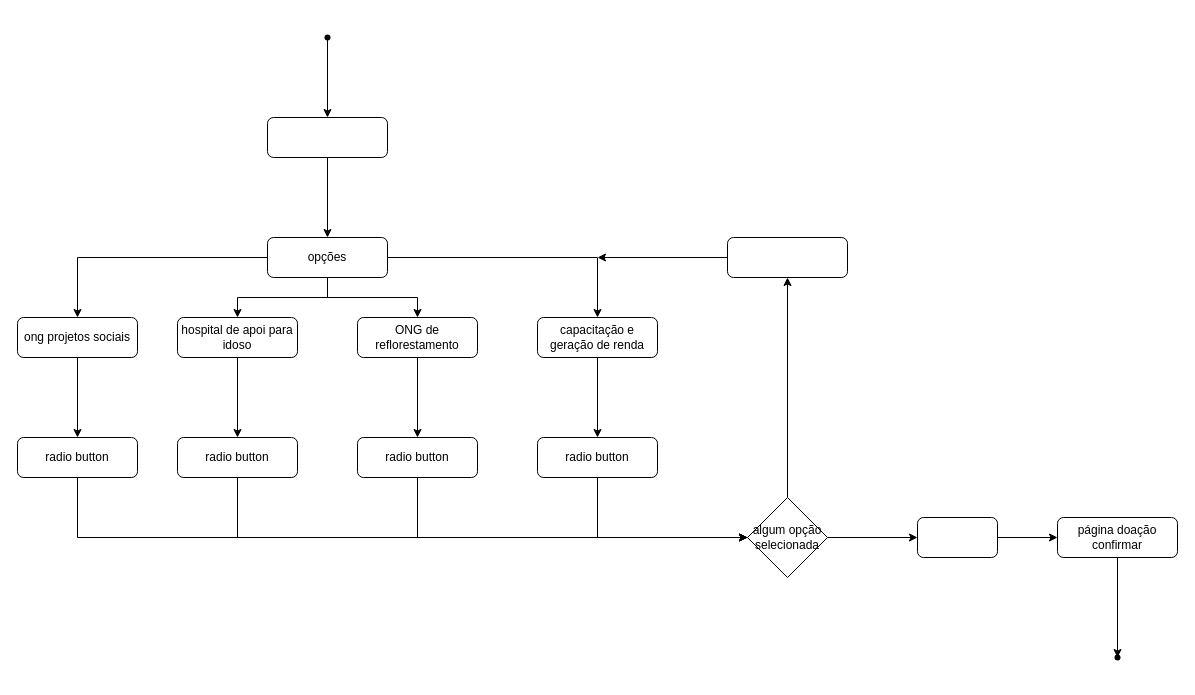
This 1195x695 diagram has some shape labels left out. The shapes that lost their labels are listed below. From the top down, each one's centre as x and y in pixels, then its label:
At point 327,137: "página doação instiutuições".
At point 787,257: "não".
At point 957,537: "sim".
